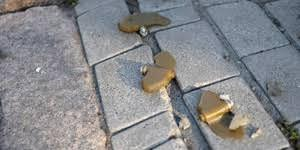PMF 1: (198, 88, 245, 142), (139, 50, 179, 95), (119, 11, 172, 38)
